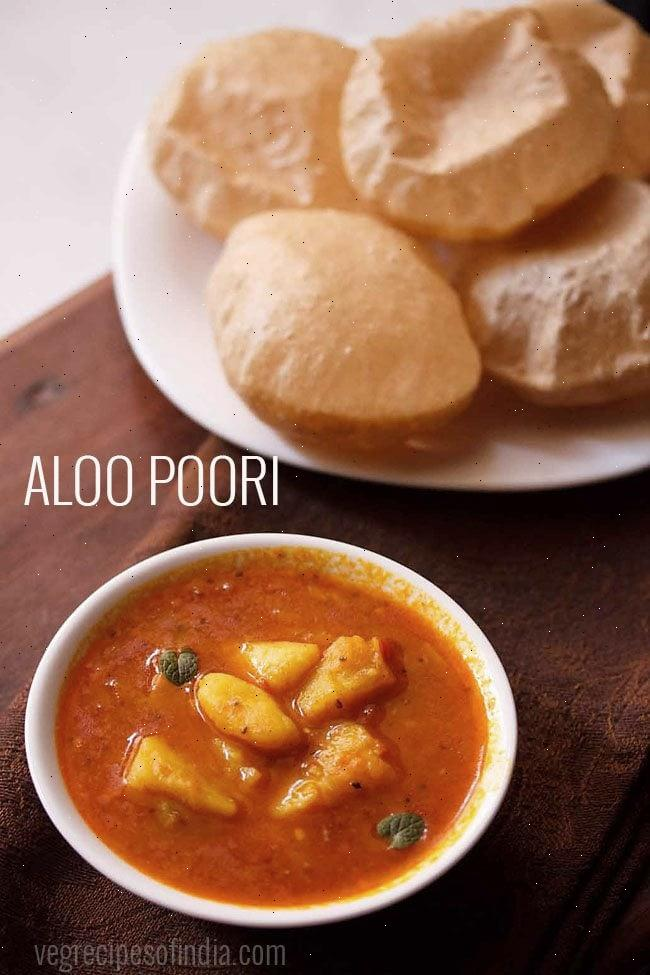puri: (135, 15, 650, 435)
